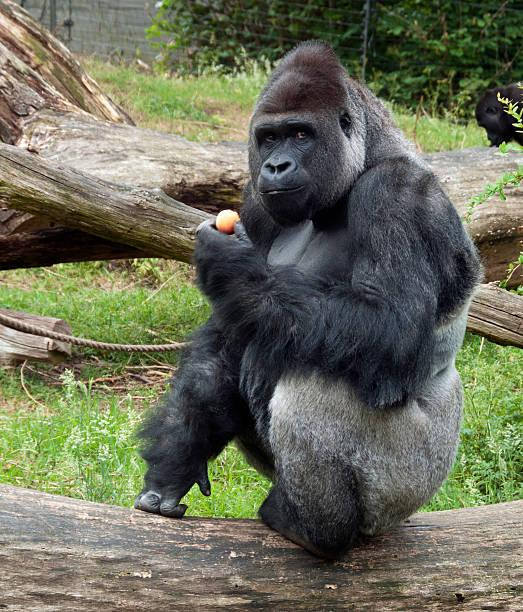gorille_Autres: (116, 0, 523, 592)
